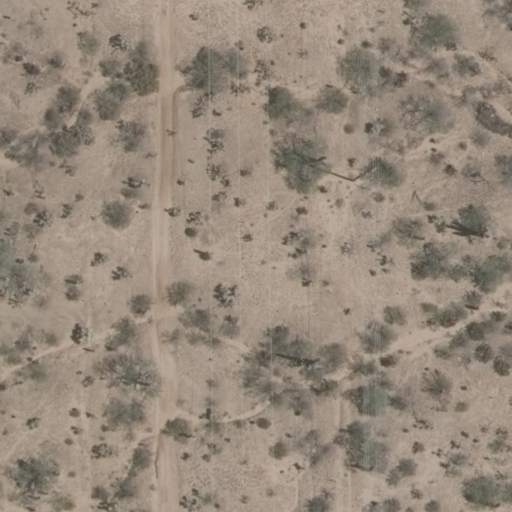DT: (351, 155, 387, 188)
